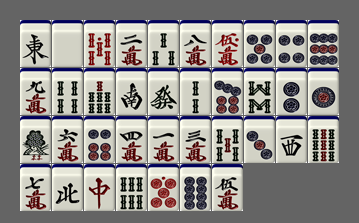0m: (212, 20, 243, 67)
0p: (148, 164, 179, 211)
0s: (84, 20, 115, 67)
1m: (148, 116, 179, 163)
1p: (308, 68, 339, 115)
1s: (20, 116, 51, 163)
1z: (20, 20, 51, 67)
2m: (116, 20, 147, 67)
2p: (276, 68, 307, 115)
2s: (180, 68, 211, 115)
2z: (116, 68, 147, 115)
3m: (180, 116, 211, 163)
3p: (244, 116, 275, 163)
3s: (148, 20, 179, 67)
3z: (276, 116, 307, 163)
4m: (116, 116, 147, 163)
4p: (276, 20, 307, 67)
4s: (52, 68, 83, 115)
4z: (52, 164, 83, 211)
5m: (212, 164, 243, 211)
5p: (244, 20, 275, 67)
5s: (212, 116, 243, 163)
5z: (52, 20, 83, 67)
6m: (52, 116, 83, 163)
6p: (84, 116, 115, 163)
6s: (116, 164, 147, 211)
6z: (148, 68, 179, 115)
7m: (20, 164, 51, 211)
7p: (212, 68, 243, 115)
7s: (84, 68, 115, 115)
7z: (84, 164, 115, 211)
8m: (180, 20, 211, 67)
8p: (180, 164, 211, 211)
8s: (244, 68, 275, 115)
9m: (20, 68, 51, 115)
9p: (308, 20, 339, 67)
9s: (308, 116, 339, 163)
